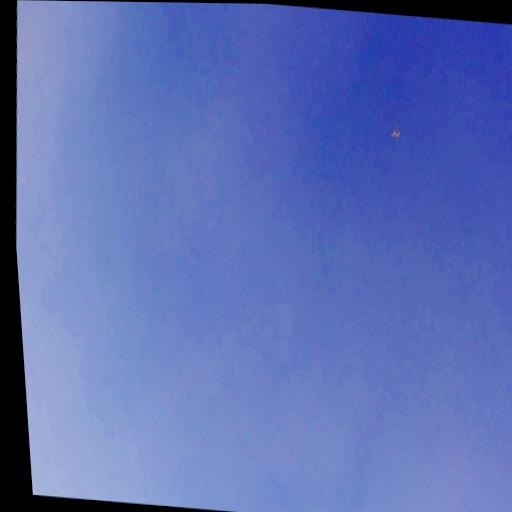drones: (389, 120, 405, 144)
